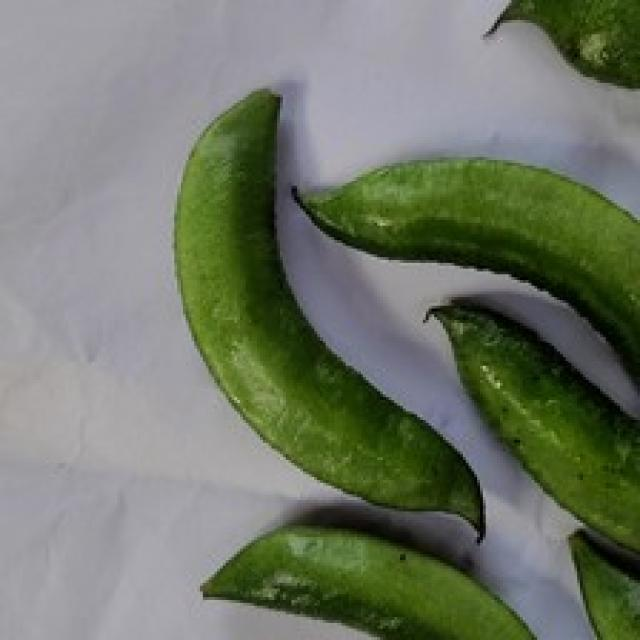Bean: (183, 85, 484, 531), (291, 141, 640, 351), (433, 290, 640, 534), (200, 510, 538, 640)
